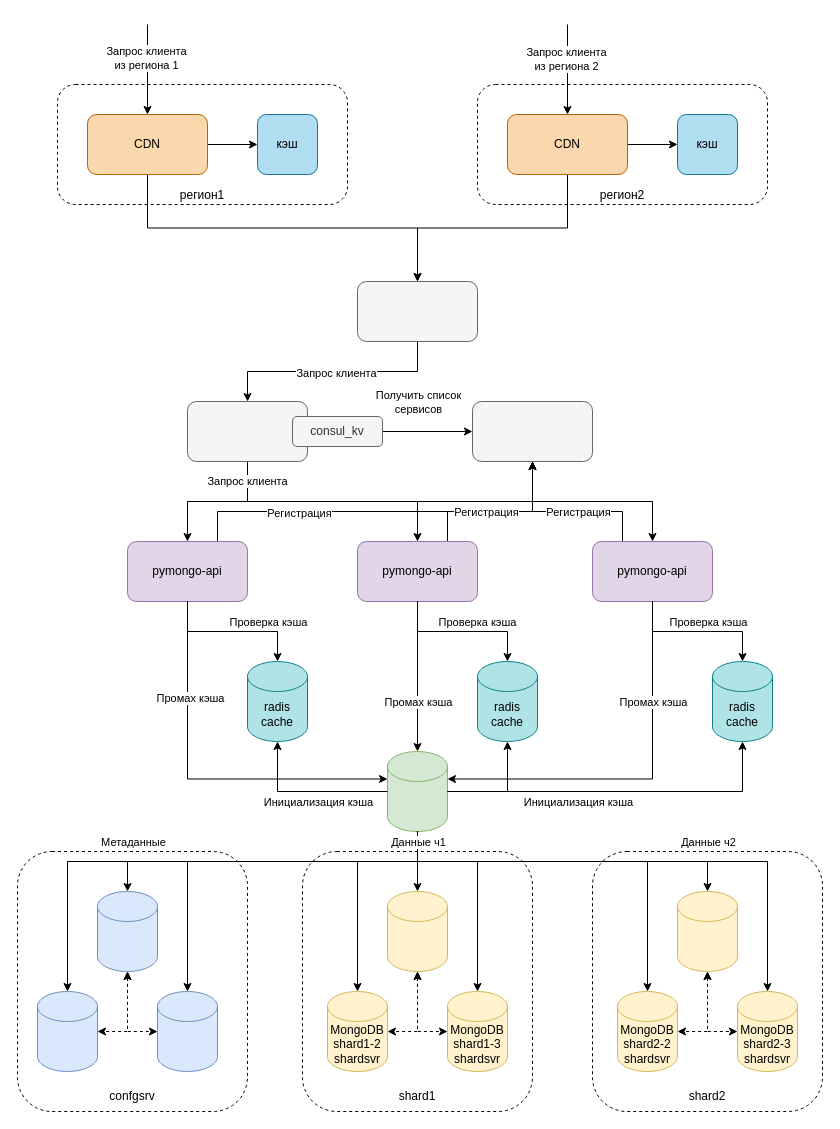
The diagram is 840 pixels wide and 1129 high, and some of its shapes have lost their labels. The centre of each missing label's shape, as x and y in pixels:
"APSIX Gateway" goes at (x=247, y=431).
"Consul" goes at (x=532, y=431).
"MongoDB configsrv-1" goes at (x=127, y=931).
"MongoDB configsrv-2" goes at (x=67, y=1031).
"MongoDB configsrv-3" goes at (x=187, y=1031).
"MongoDB mongos" goes at (x=417, y=791).
"MongoDB shard1-1 shardsvr" goes at (x=417, y=931).
"MongoDB shard2-1 shardsvr" goes at (x=707, y=931).
"traefik" goes at (x=417, y=311).
